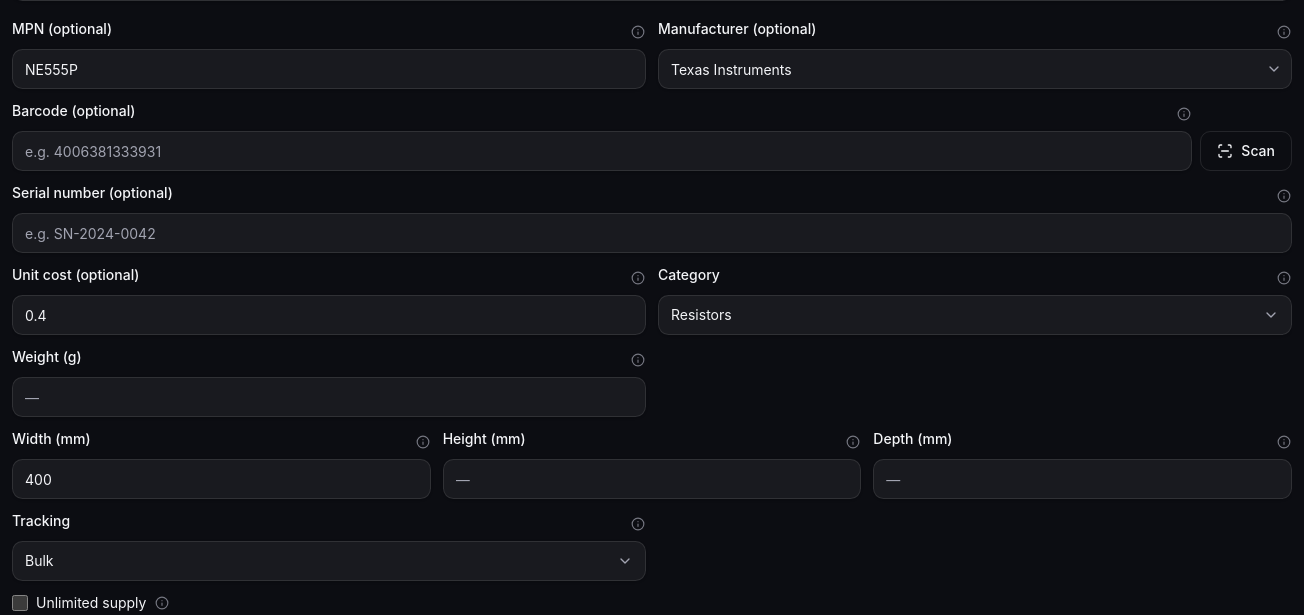
Test: ItemDetailsEditor › refuses to save a negative dimension or unit cost
The image size is (1304, 615).
(page scrolled)
Replace the text in the number field with test id "item-details-width" with "-1" at (221, 479), box x1=12 y1=459 x2=431 y2=499
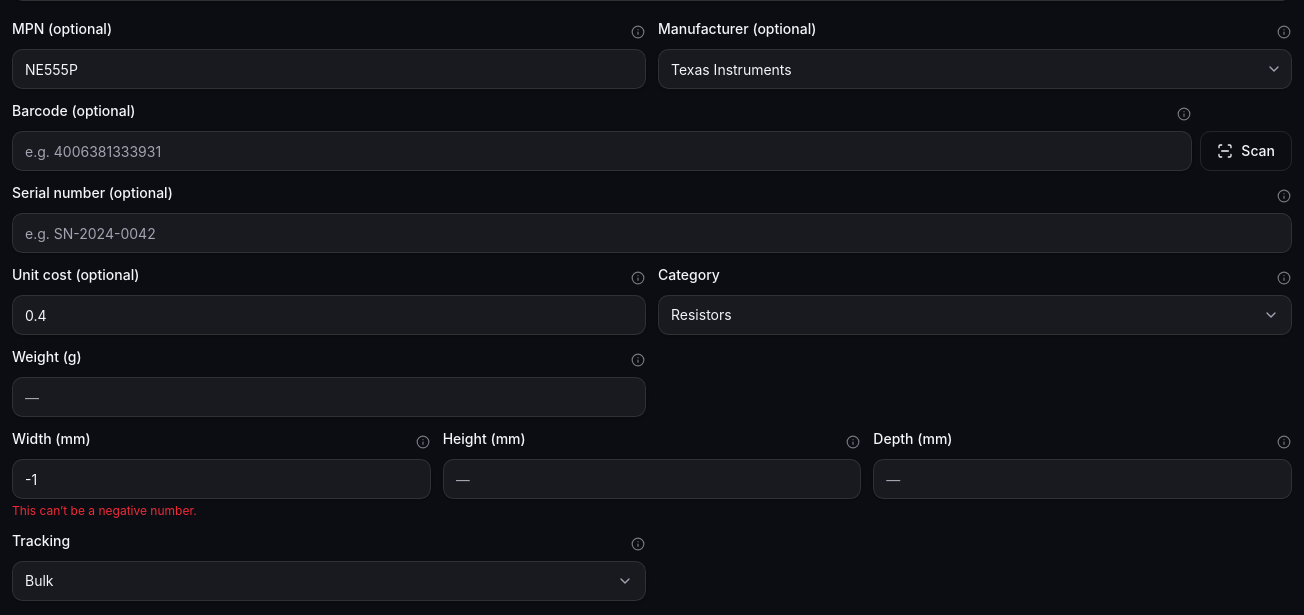
Replace the text in the number field with test id "item-details-width" with "400" at (221, 479), box x1=12 y1=459 x2=431 y2=499
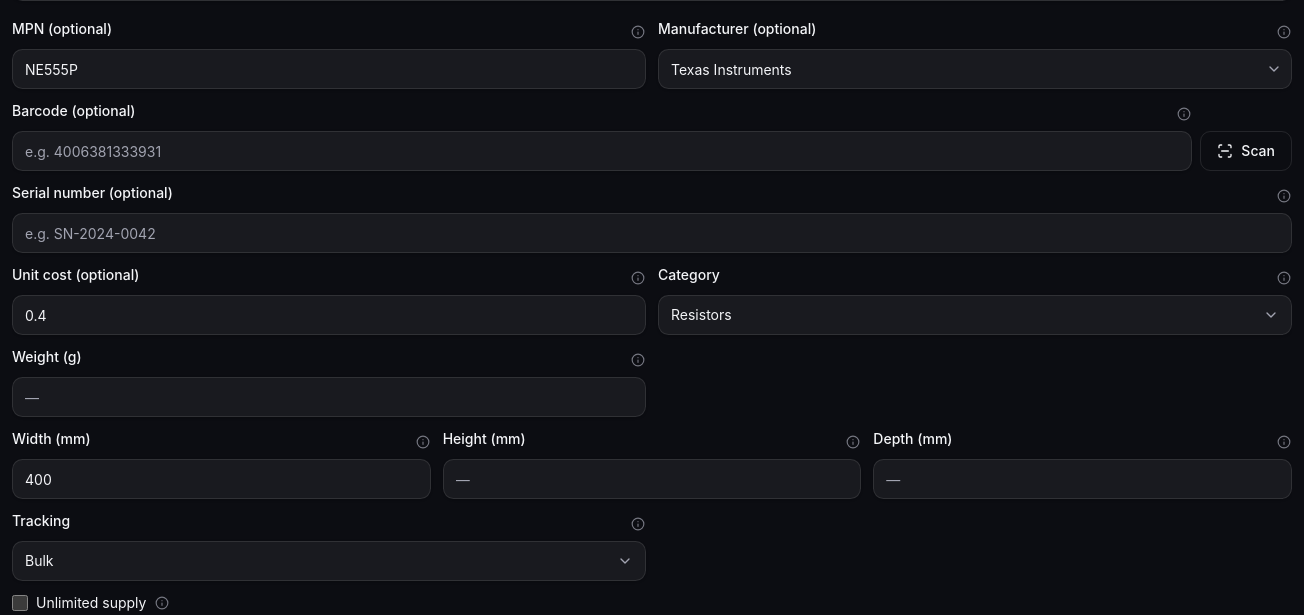
Replace the text in the number field labelled "Unit cost (optional)" with "-2" at (329, 315), box x1=12 y1=295 x2=646 y2=335
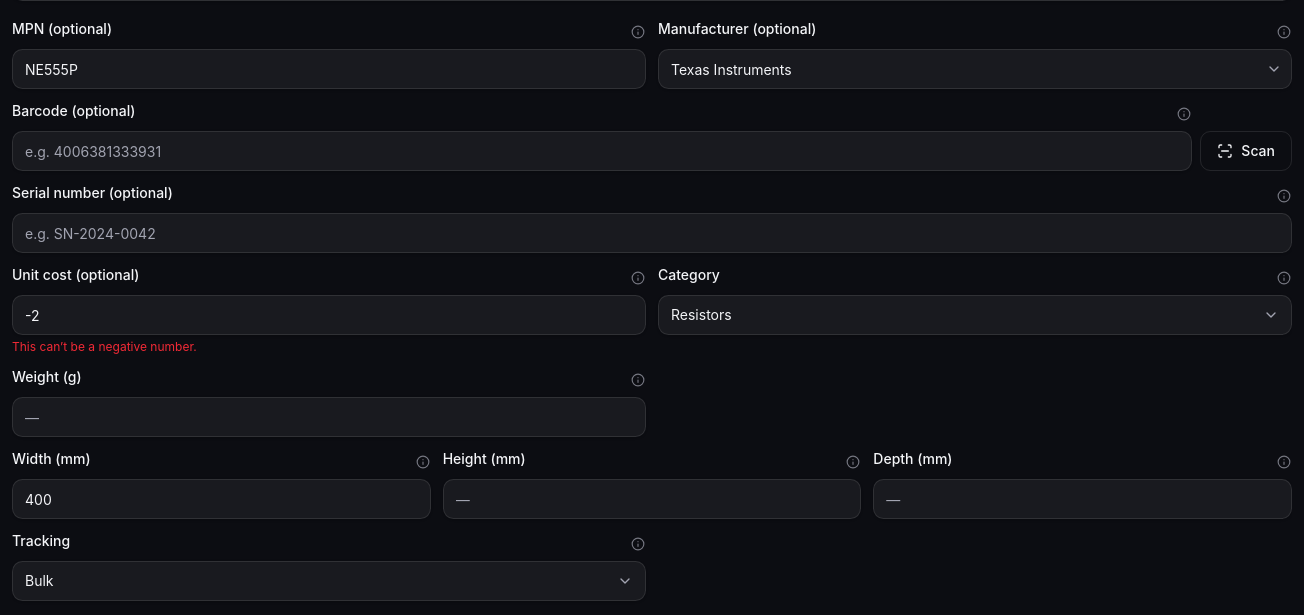
Expected: the message shows "negative", x1=12 y1=339 x2=197 y2=354
